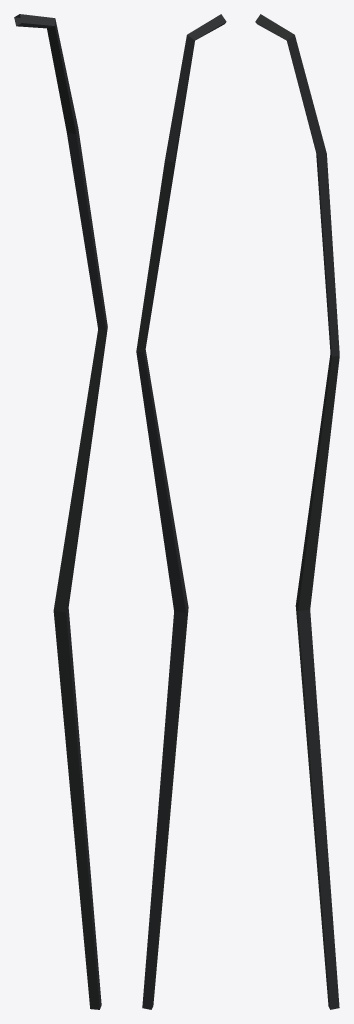
File: Powerline_07.fbx
The picture shows the model from 3 angles, left to right: view 1: azimuth 30°, elevation 25°; view 2: azimuth 210°, elevation 25°; view 3: azimuth 330°, elevation 25°; orthographic projection. The views are drawn at different scales.
Visible parts, largest first — view 1: Powerline_07; view 2: Powerline_07; view 3: Powerline_07.
Part boxes in pixels (box(x1,y1,x2,y2)): Powerline_07: box(14, 14, 107, 1009); Powerline_07: box(136, 14, 226, 1009); Powerline_07: box(255, 14, 339, 1009).
Size of the model in its own units: 0.3039 by 3.31 by 0.0903.
